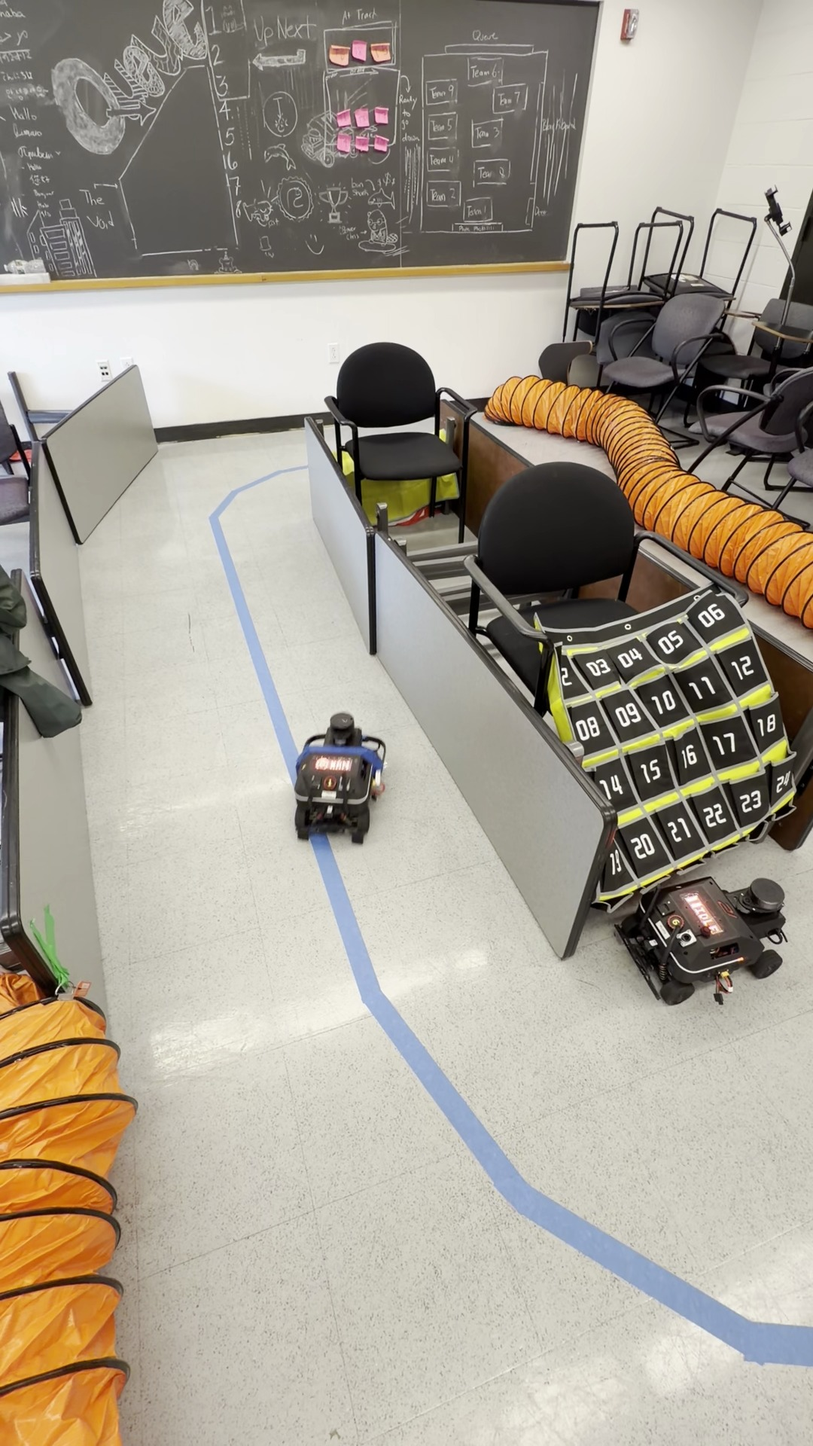racecar: (290, 712, 389, 842)
